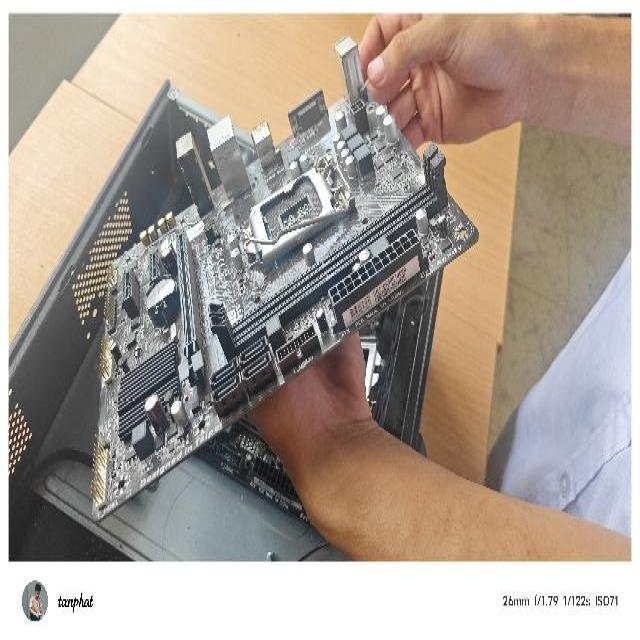Mainboard: (86, 24, 482, 532)
